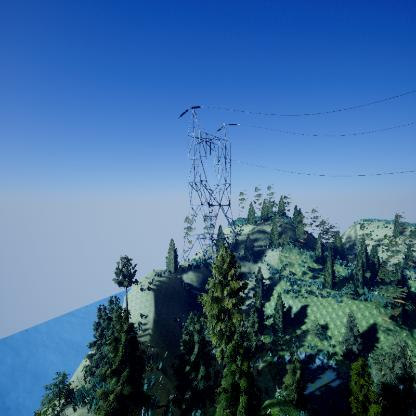tower: (180, 106, 245, 276)
